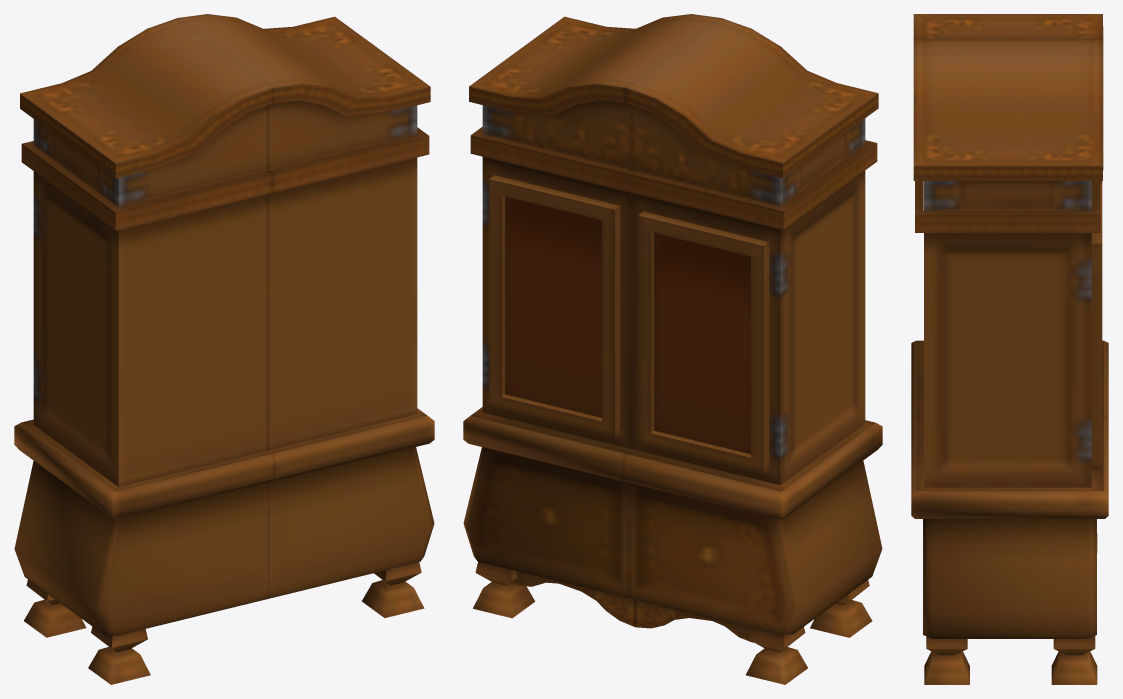
File: Kitchen_Cupborad_01.gltf
The picture shows the model from 3 angles, left to right: view 1: azimuth 30°, elevation 25°; view 2: azimuth 150°, elevation 25°; view 3: azimuth 270°, elevation 25°; orthographic projection.
Visible parts, largest first — view 1: Kitchen_Cupborad_01; view 2: Kitchen_Cupborad_01; view 3: Kitchen_Cupborad_01.
Boxes of the visible parts, x1,y1,x2,y2 form: Kitchen_Cupborad_01: [14, 14, 434, 684]; Kitchen_Cupborad_01: [463, 14, 882, 684]; Kitchen_Cupborad_01: [911, 14, 1108, 684].
Size of the model in its own units: 58.94 by 92.86 by 29.86.
Materials: 1 (1 with a texture image).
